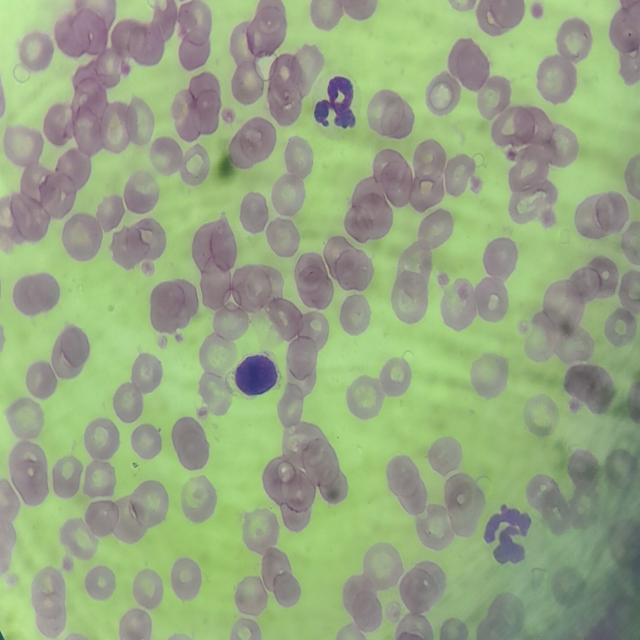Neutrofilo: (476, 500, 541, 579), (311, 68, 363, 140)
